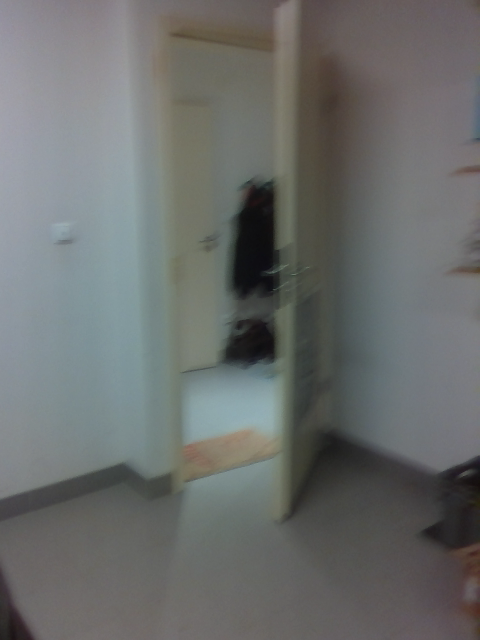semi: (164, 9, 327, 526)
